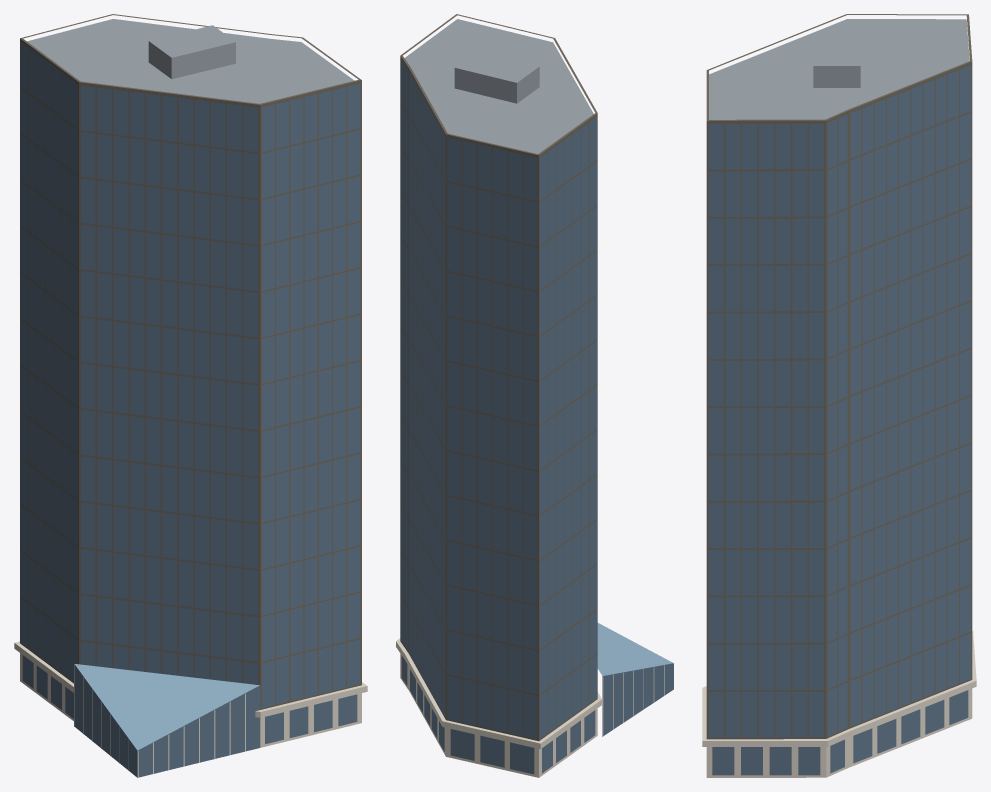
Rendered from clt-101-south-tryon.glb.
The picture shows the model from 3 angles, left to right: view 1: azimuth 30°, elevation 25°; view 2: azimuth 150°, elevation 25°; view 3: azimuth 270°, elevation 25°; orthographic projection. The views are drawn at different scales.
Parts seen in each view (by area): view 1: One South at The Plaza; view 2: One South at The Plaza; view 3: One South at The Plaza.
Boxes of the visible parts, x1=… form: One South at The Plaza: x1=14, y1=14, x2=367, y2=777; One South at The Plaza: x1=396, y1=14, x2=673, y2=777; One South at The Plaza: x1=702, y1=14, x2=976, y2=777.
Size of the model in its own units: 56.7 by 157 by 57.81.
